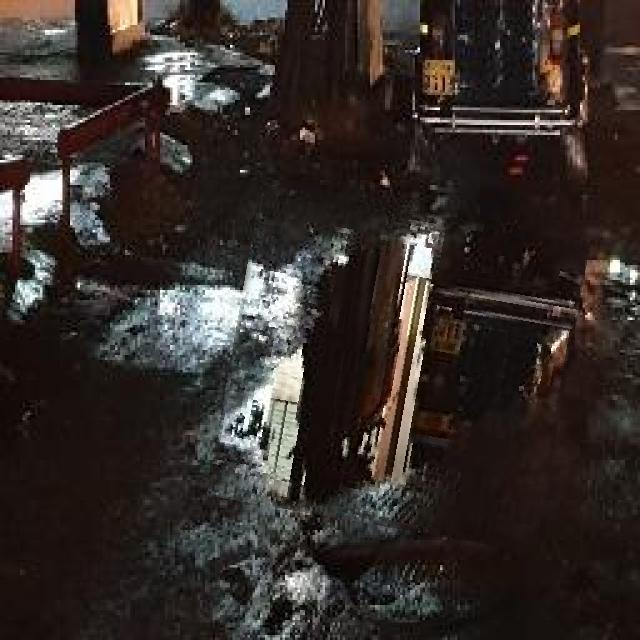puddle: (220, 199, 578, 541)
